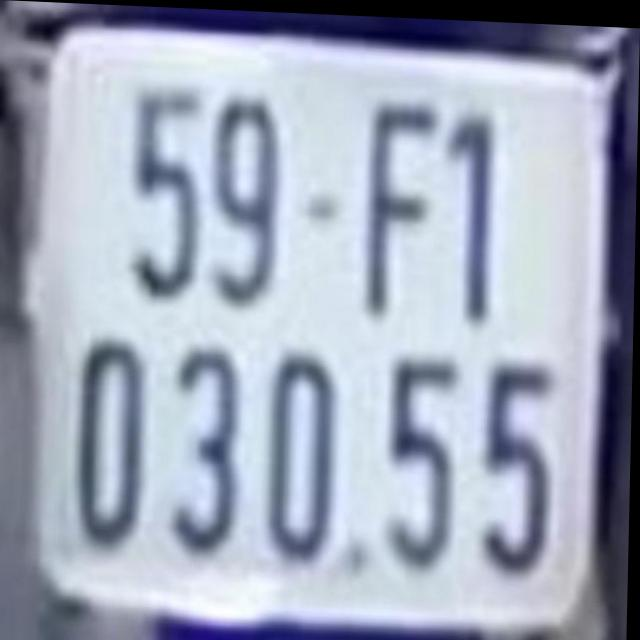0: (273, 351, 337, 560), (80, 343, 147, 538)
1: (450, 112, 505, 319)
3: (176, 348, 243, 557)
5: (483, 355, 555, 572), (387, 352, 459, 565), (134, 89, 203, 294)
9: (207, 94, 285, 302)
F: (362, 99, 443, 315)
